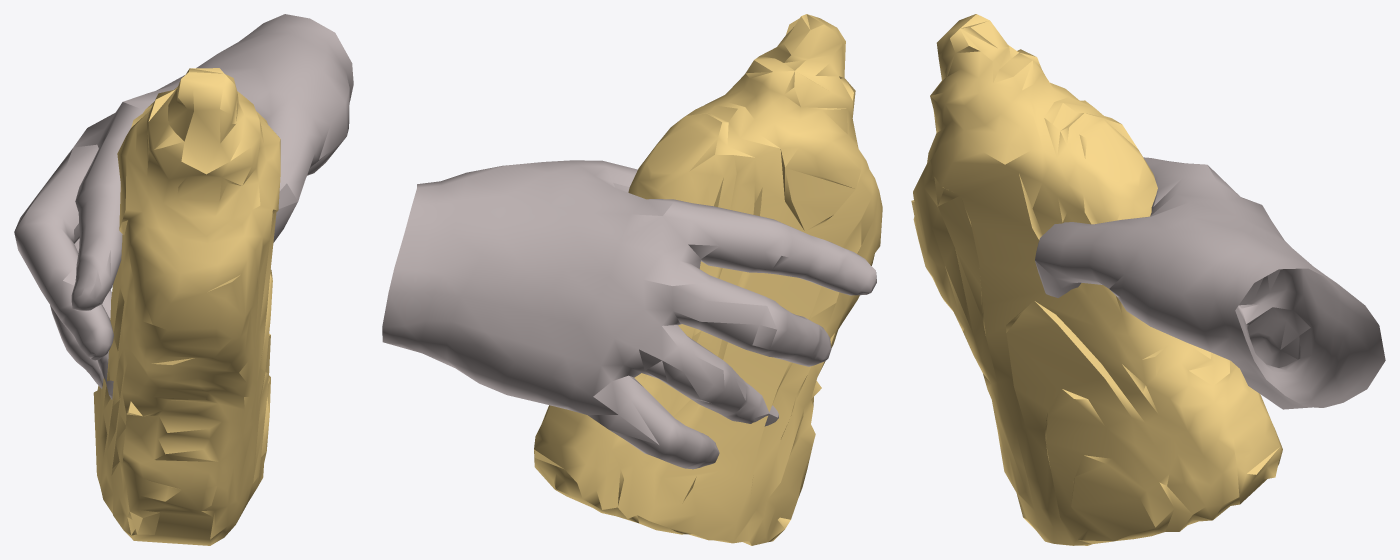
The model's file is mocap_top_frame.glb.
3 views of the same model, side by side, from view 1: azimuth 30°, elevation 25°; view 2: azimuth 150°, elevation 25°; view 3: azimuth 270°, elevation 25° (orthographic). The views are drawn at different scales.
Visible parts, largest first — view 1: mesh0; view 2: mesh0; view 3: mesh0.
Boxes of the visible parts, box(x1,y1,x2,y2) form: mesh0: box(14, 14, 353, 545); mesh0: box(382, 14, 882, 545); mesh0: box(911, 14, 1385, 545).
Bounding box in the file's own units: 0.1549 × 0.1958 × 0.1686.
